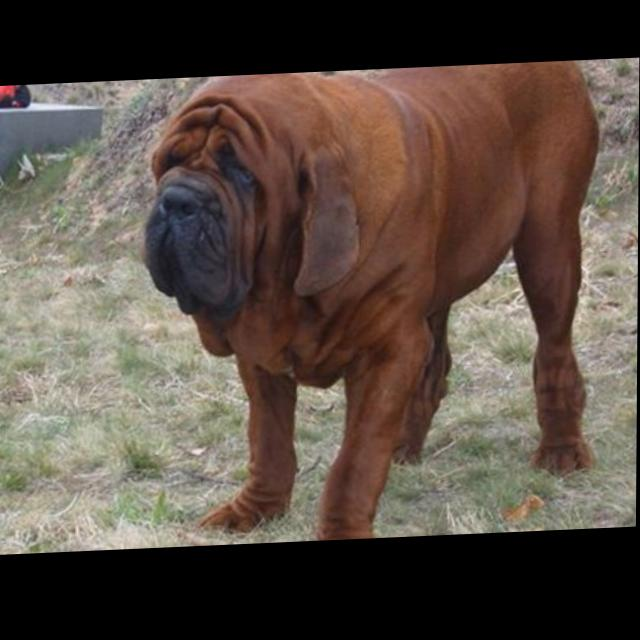mastiff: (141, 65, 603, 550)
